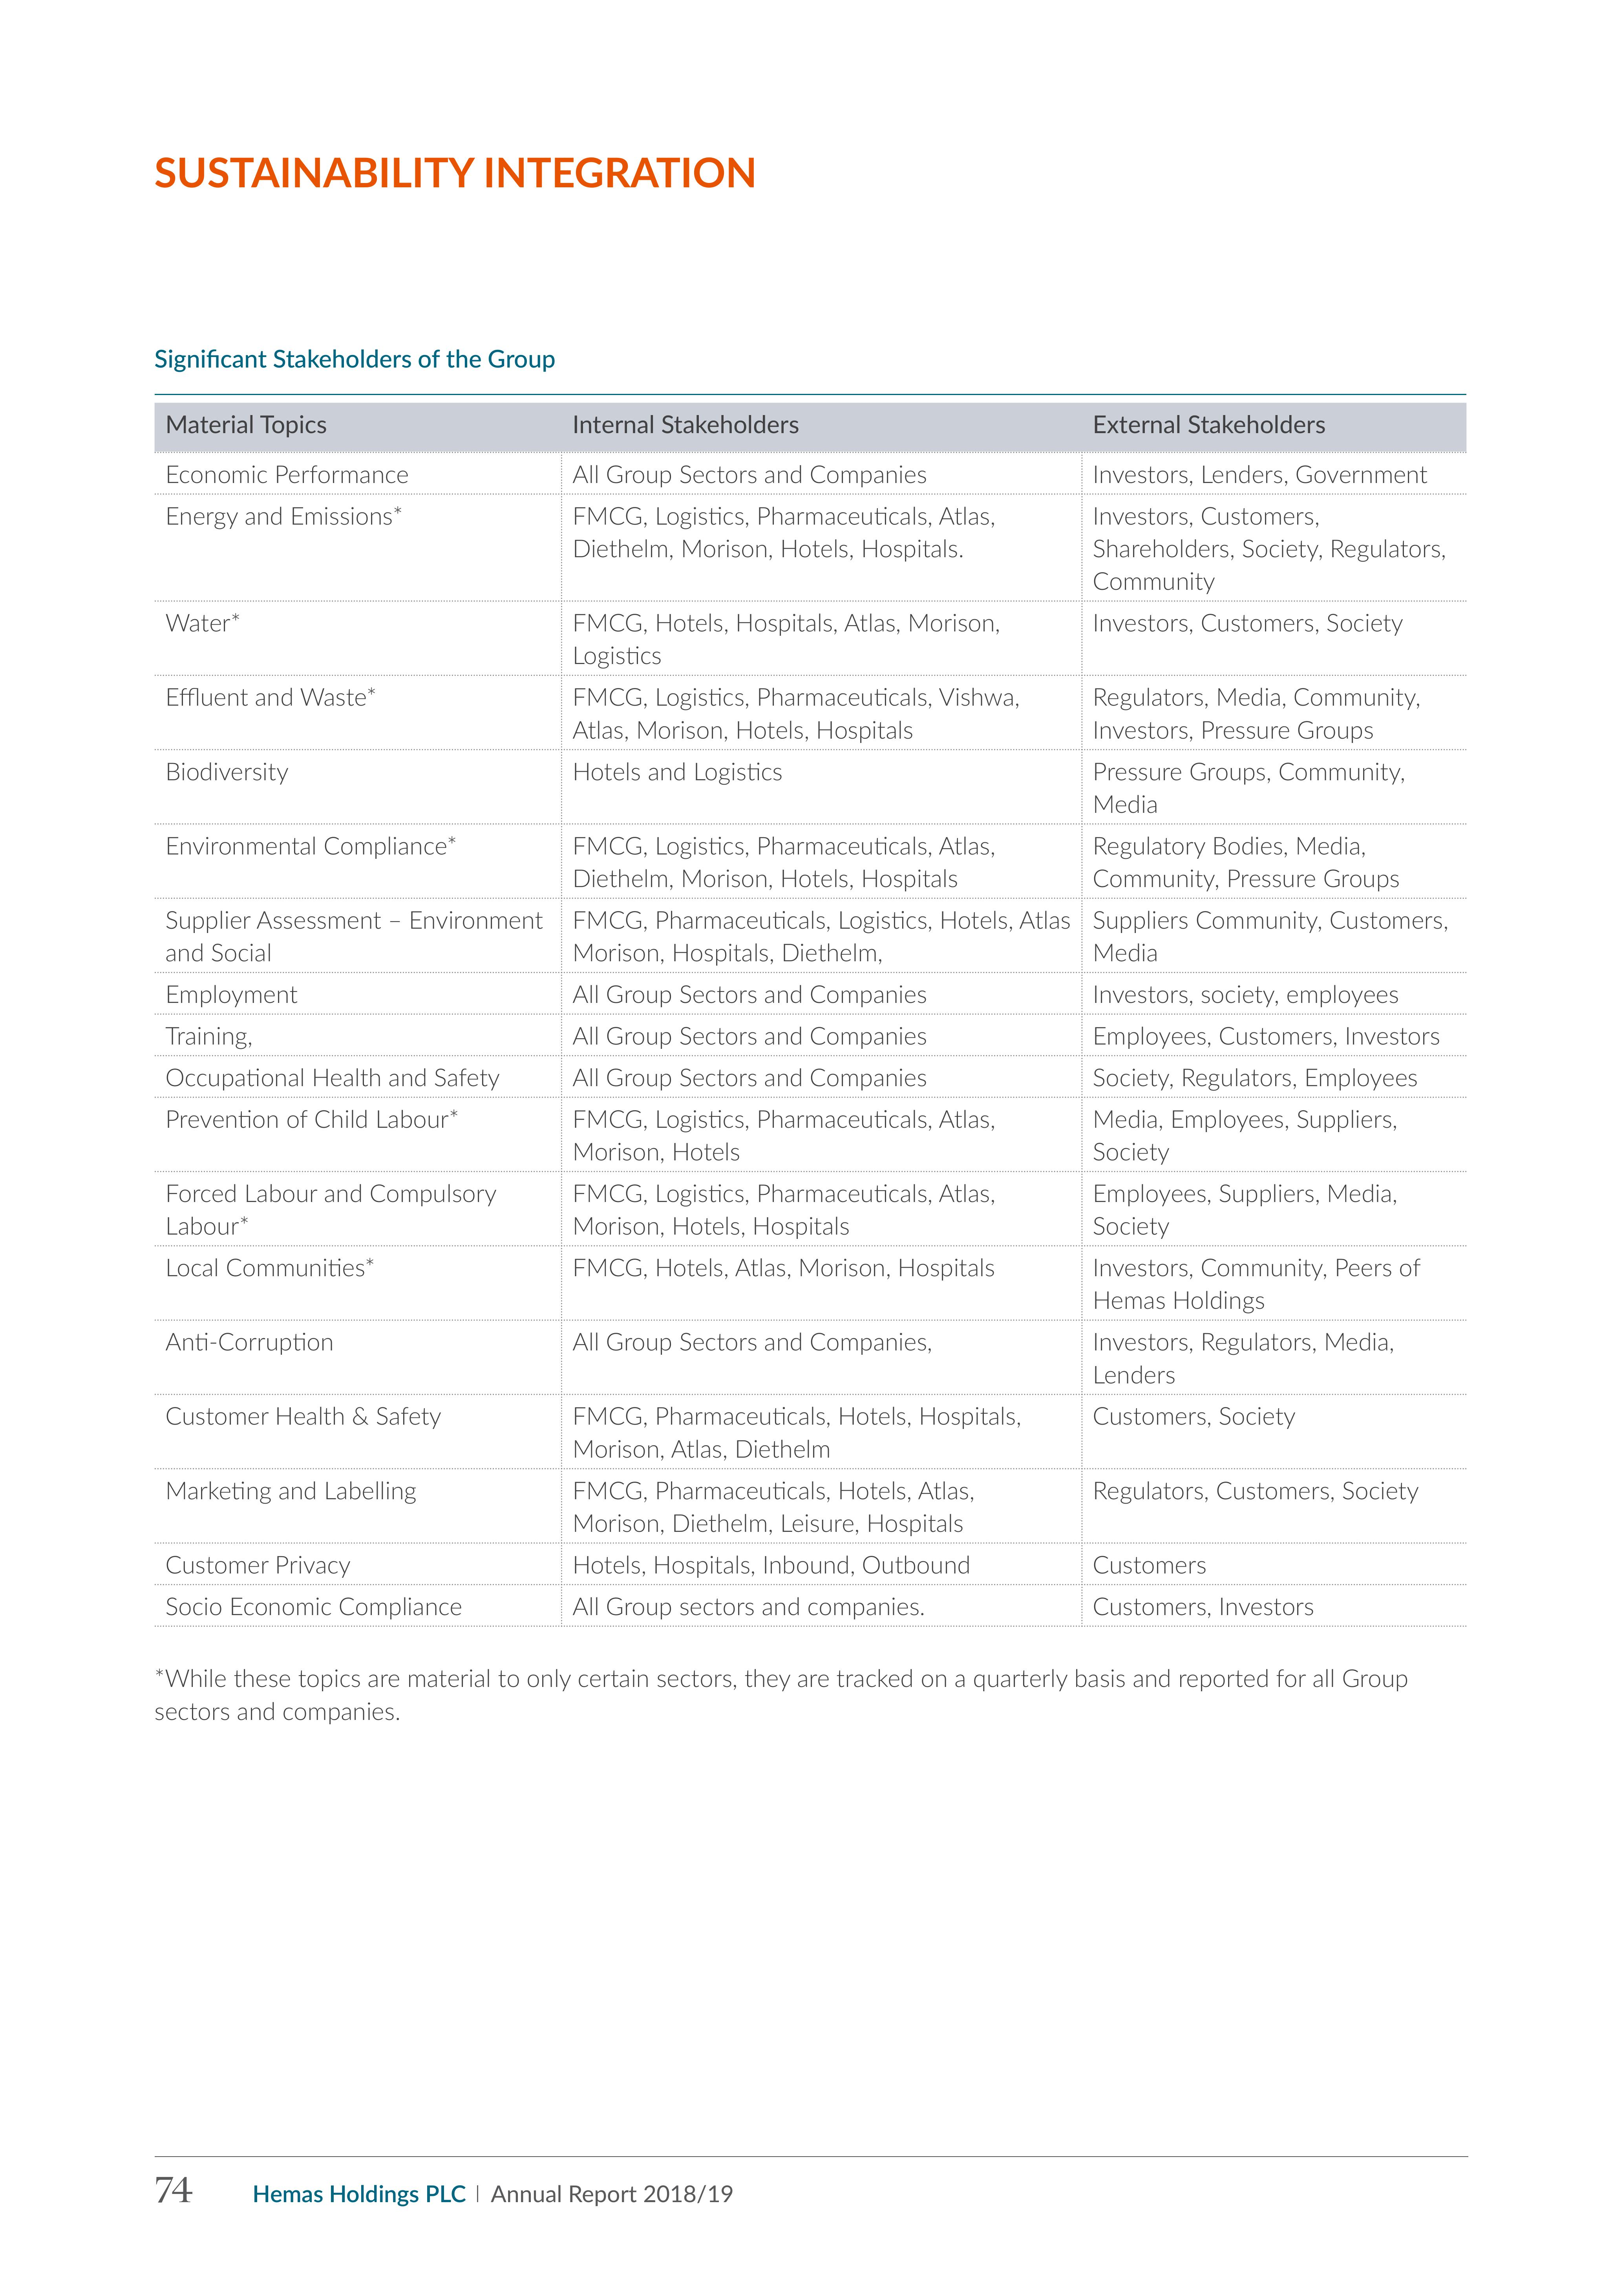table: (148, 392, 1477, 1743)
